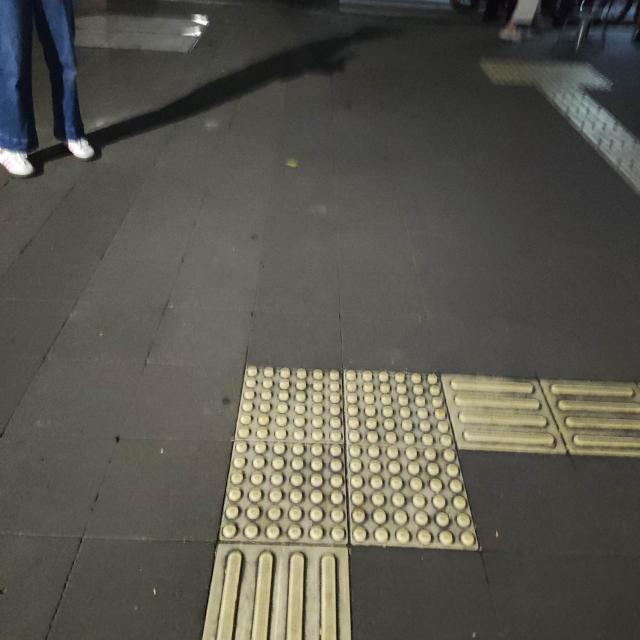kanan: (142, 293, 640, 640)
